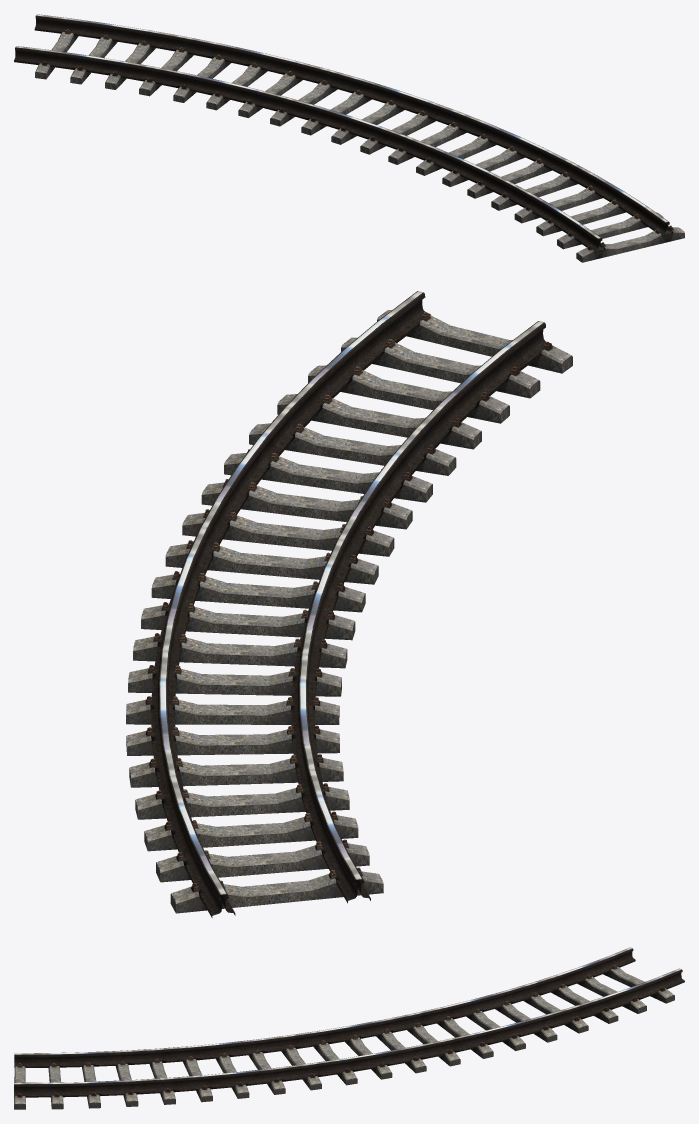
Rendered from Beton_rail_45.FBX.
3 views of the same model, one above another, from view 1: azimuth 30°, elevation 25°; view 2: azimuth 150°, elevation 25°; view 3: azimuth 270°, elevation 25° (orthographic). The views are drawn at different scales.
Parts seen in each view (by area): view 1: Beton_rail_45_LOD0; view 2: Beton_rail_45_LOD0; view 3: Beton_rail_45_LOD0.
Boxes of the visible parts, x1=… form: Beton_rail_45_LOD0: x1=14, y1=14, x2=684, y2=262; Beton_rail_45_LOD0: x1=126, y1=291, x2=572, y2=917; Beton_rail_45_LOD0: x1=14, y1=947, x2=684, y2=1109.
Size of what is drawn, in the model's own units: 8.14 by 15.88 by 0.4774.
